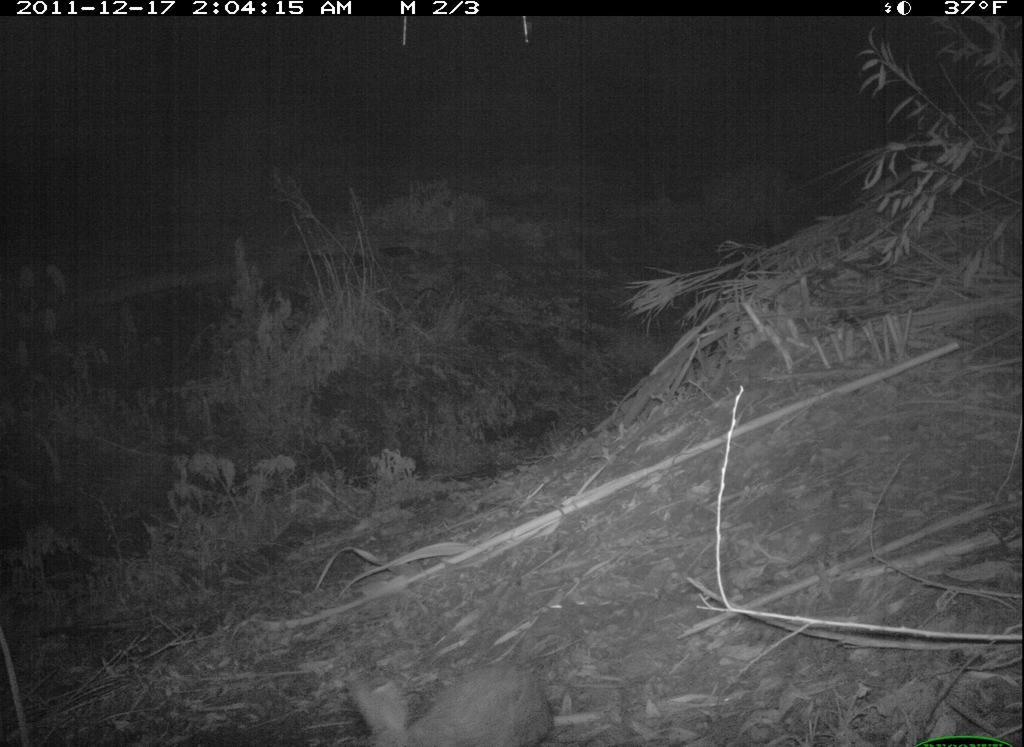rabbit: (342, 651, 566, 744)
